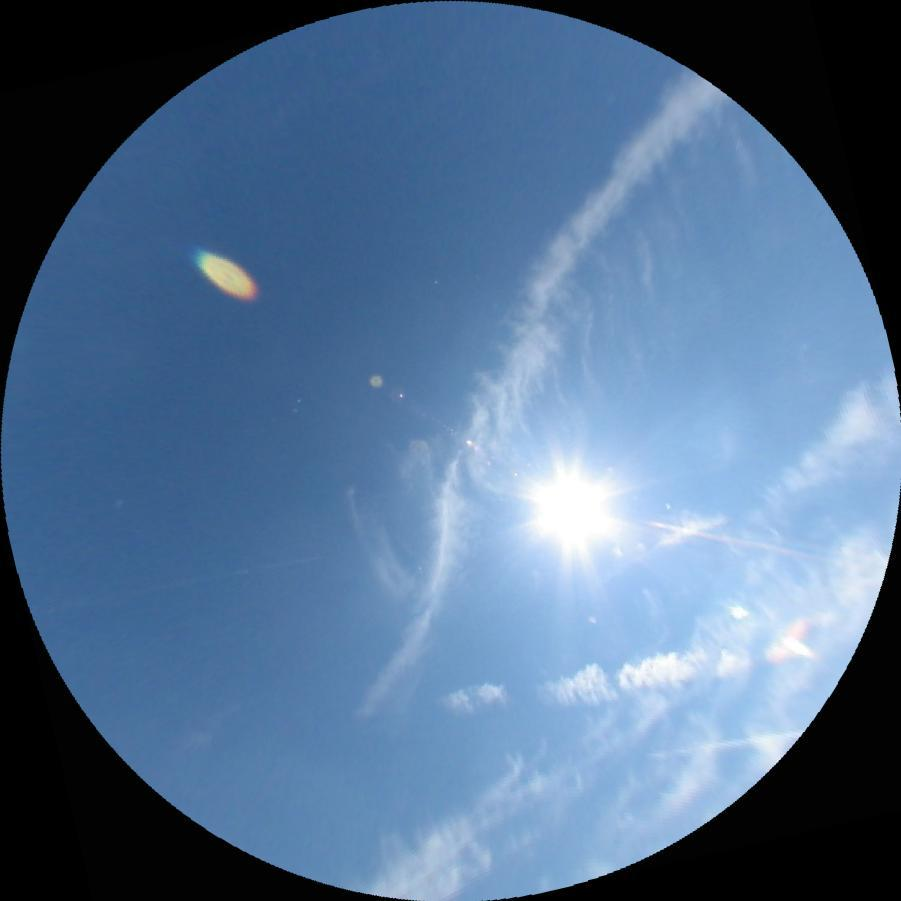contrail veryold: (308, 45, 729, 733), (309, 98, 820, 615), (441, 637, 744, 729)
parasite: (643, 515, 825, 564)
sun: (516, 454, 622, 558)
unknow: (647, 730, 798, 757)
